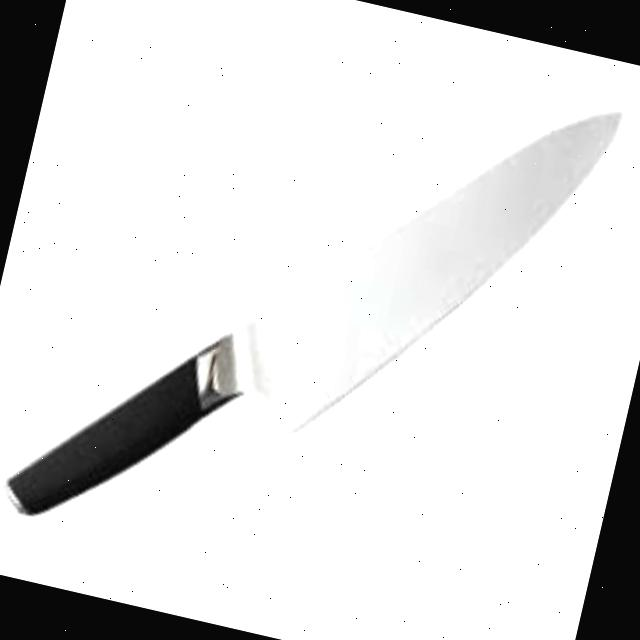knife: (0, 0, 627, 625)
